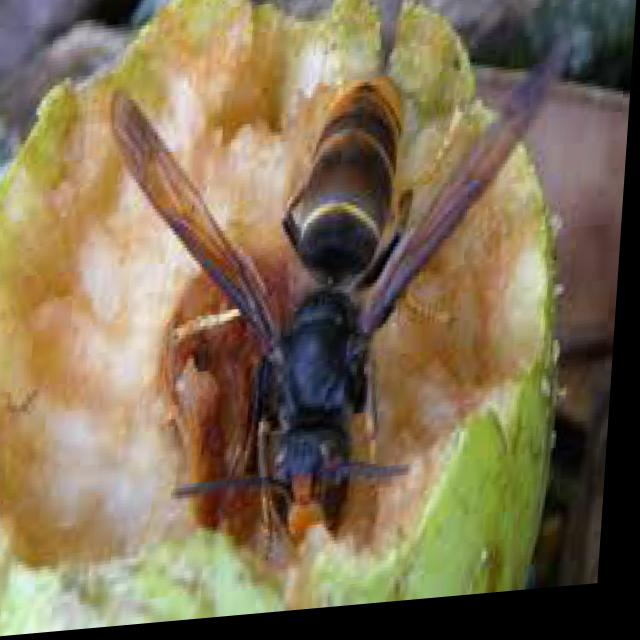Vespa Velutina: (82, 37, 578, 595)
